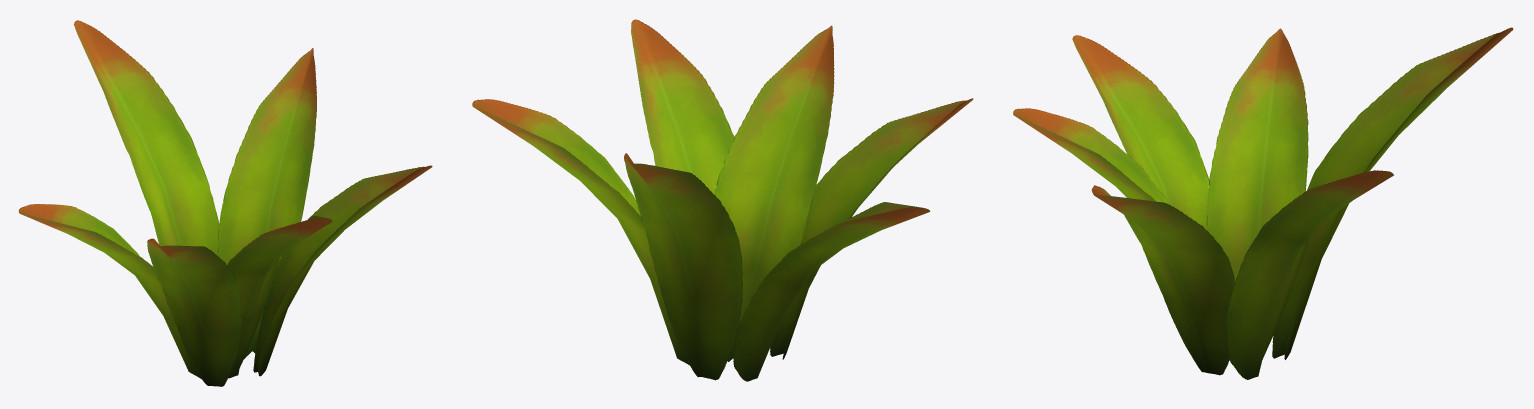
Rendered from Plant_1.glb.
The picture shows the model from 3 angles, left to right: view 1: azimuth 30°, elevation 25°; view 2: azimuth 150°, elevation 25°; view 3: azimuth 270°, elevation 25°; orthographic projection. The views are drawn at different scales.
Visible parts, largest first — view 1: Plant_1; view 2: Plant_1; view 3: Plant_1.
Boxes of the visible parts, box(x1,y1,x2,y2) form: Plant_1: box(18, 20, 432, 386); Plant_1: box(472, 19, 973, 381); Plant_1: box(1013, 27, 1513, 379).
Size of the model in its own units: 1.27 by 1.01 by 1.39.
1 material, 1 textured.
